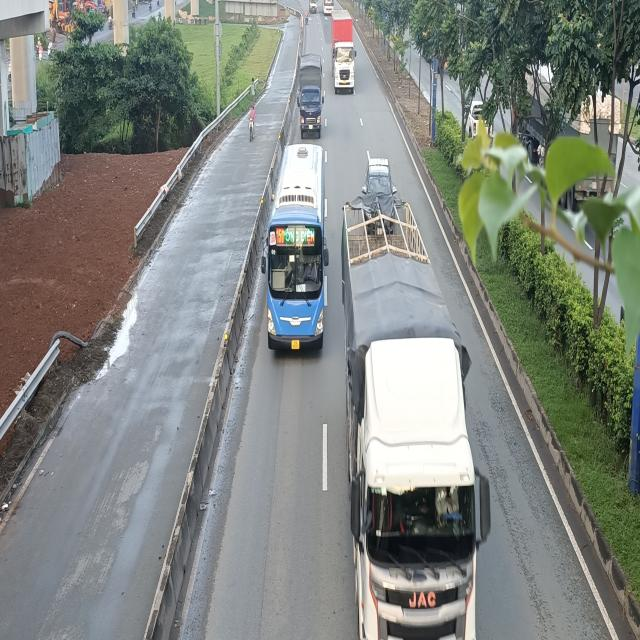coach: (262, 143, 328, 348)
container: (332, 8, 357, 91)
truck: (346, 182, 492, 640), (298, 56, 324, 139)
